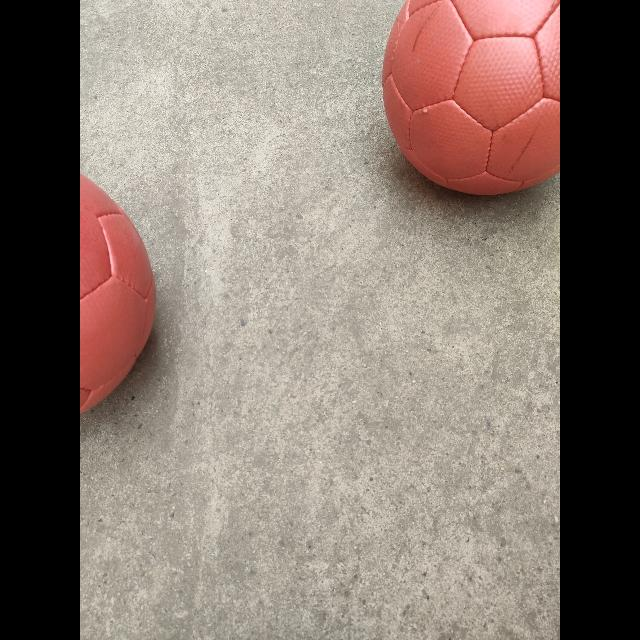R: (382, 1, 560, 197), (80, 168, 156, 416)
